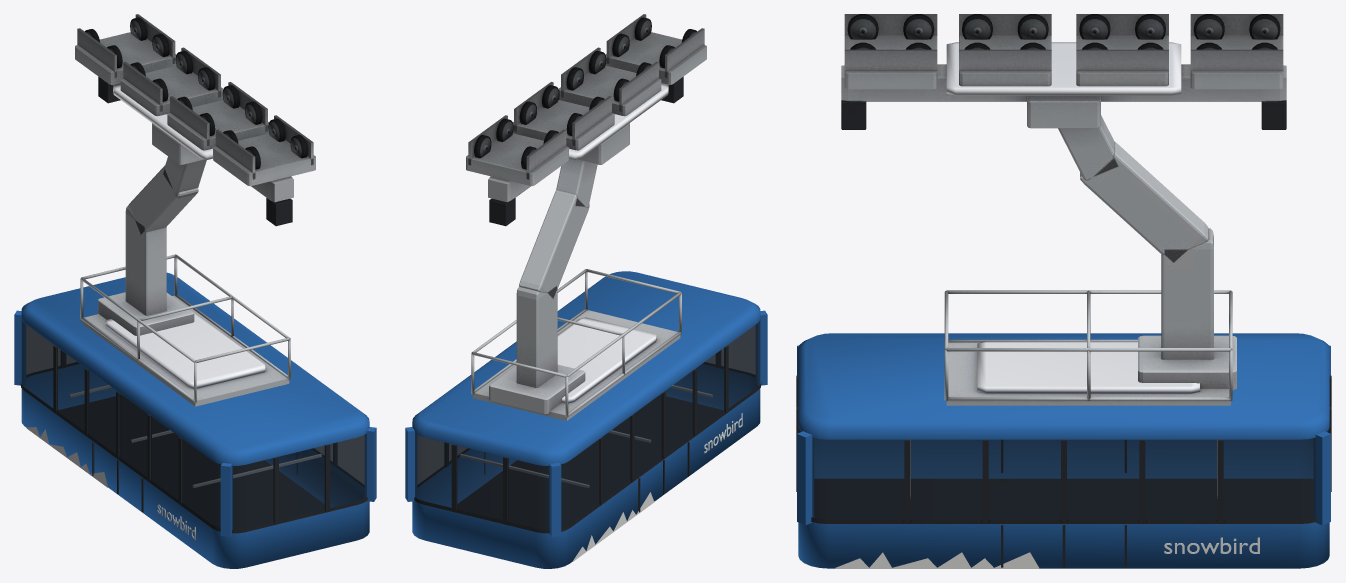
Rendered from tram_cabin.glb.
3 renders of one model, left to right at view 1: azimuth 30°, elevation 25°; view 2: azimuth 150°, elevation 25°; view 3: azimuth 270°, elevation 25°, orthographic. The views are drawn at different scales.
Parts seen in each view (by area): view 1: tram_cabin, tram_cabin_paint, tram_cabin_glass, tram_cabin_snow, tram_cabin_flat; view 2: tram_cabin, tram_cabin_paint, tram_cabin_glass, tram_cabin_snow, tram_cabin_flat; view 3: tram_cabin, tram_cabin_paint, tram_cabin_glass, tram_cabin_snow, tram_cabin_flat.
Boxes of the visible parts, x1=… form: tram_cabin: x1=20, y1=14, x2=367, y2=533; tram_cabin_paint: x1=14, y1=272, x2=376, y2=568; tram_cabin_glass: x1=21, y1=320, x2=366, y2=529; tram_cabin_snow: x1=105, y1=84, x2=265, y2=388; tram_cabin_flat: x1=26, y1=427, x2=195, y2=540; tram_cabin: x1=414, y1=14, x2=761, y2=533; tram_cabin_paint: x1=405, y1=271, x2=767, y2=568; tram_cabin_glass: x1=415, y1=320, x2=760, y2=529; tram_cabin_snow: x1=557, y1=84, x2=668, y2=403; tram_cabin_flat: x1=572, y1=413, x2=742, y2=561; tram_cabin: x1=796, y1=14, x2=1331, y2=567; tram_cabin_paint: x1=797, y1=333, x2=1330, y2=568; tram_cabin_glass: x1=798, y1=428, x2=1329, y2=519; tram_cabin_snow: x1=946, y1=42, x2=1199, y2=393; tram_cabin_flat: x1=835, y1=537, x2=1259, y2=568.
Size of the model in its own units: 3.66 by 8.9 by 8.66.
Materials: 5 (1 with a texture image).
